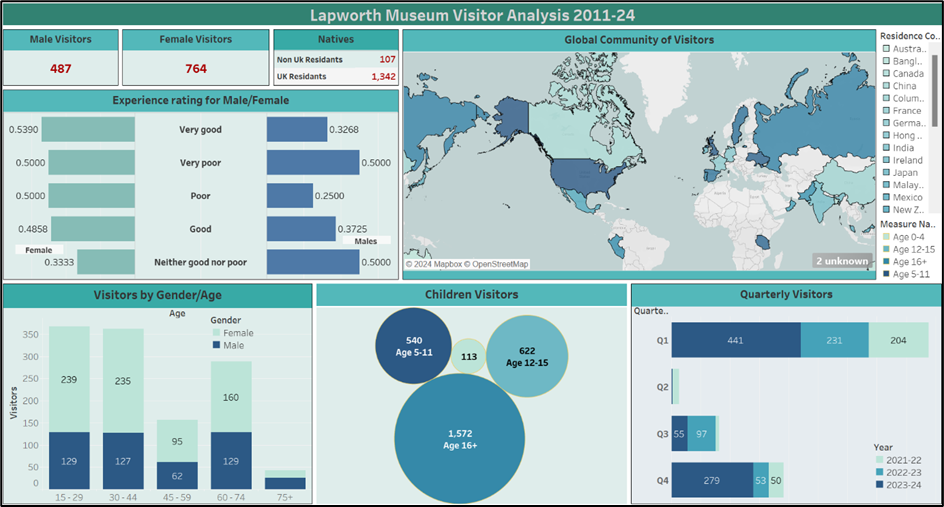

The dashboard page shown, as its layout file describes it:
{"tool":"tableau","page":{"name":"Dashboard 1","canvas":[1000,1000],"units":"permille","ordinal":0},"visuals":[{"type":"title","box":[5,9.1,990,59.2]},{"type":"worksheet","title":"Male Visitors","mark":"Automatic","box":[5,68.3,150.2,139]},{"type":"worksheet","title":"Female Visitors","mark":"Automatic","box":[155.2,68.3,106.6,139]},{"type":"worksheet","title":"Natives","mark":"Automatic","rows":["UKResidence"],"box":[261.8,68.3,162.7,139]},{"type":"worksheet","title":"Global Community of Visitors","mark":"Multipolygon","box":[424.5,68.3,487.6,490.1]},{"type":"legend","title":"Global Community of Visitors","param":"[federated.0q36t5l07i0mzx14kaglk1yqr4hp].[none:residenceCountry:nk]","box":[912.1,68.3,82.9,337.5]},{"type":"worksheet","title":"Experience rating for Male/Female","mark":"Automatic","rows":["experienceRating"],"cols":["Calculation_928304523125633030","Calculation_1700390384256401408","Calculation_928304523125530629"],"box":[5,207.3,419.6,351.2]},{"type":"legend","title":"Children Visitors","param":"[federated.0x6i5or1xelht01e3j2g41k0ohus].[:Measure Names]","box":[912.1,405.8,82.9,152.6]},{"type":"worksheet","title":"Visitors by Gender/Age","mark":"Automatic","rows":["Sheetn1_F56A92534EA4408CB83E73F90984C33C"],"cols":["Age"],"box":[5,558.5,329.3,432.4]},{"type":"worksheet","title":"Children Visitors","mark":"Circle","box":[334.3,558.5,330,432.4]},{"type":"worksheet","title":"Quarterly Visitors","mark":"Bar","rows":["VisitingDate"],"cols":["Sheetn1_D95E6FB01C424B3381954CE16F2413E4"],"box":[664.3,558.5,330.7,432.4]},{"type":"legend","title":"Visitors by Gender/Age","param":"[federated.1o2nny81i70ewv16ebwas1ls3brk].[none:Gender:nk]","box":[224.4,616.2,107.9,85.4]},{"type":"legend","title":"Quarterly Visitors","param":"[federated.0q36t5l07i0mzx14kaglk1yqr4hp].[none:Year:nk]","box":[922.1,864.5,69.2,117.3]}]}

Visuals, with their boxes on the dashboard's canvas, which has no fixed pixel size, in thousandths of its width and height (x1, y1, x2, y2). These are canvas units, not pixel positions in the 944x507 screenshot, which may show the page scaled, cropped or inside an application window:
title: <region>5, 9, 995, 68</region>
"Male Visitors" worksheet: <region>5, 68, 155, 207</region>
"Female Visitors" worksheet: <region>155, 68, 262, 207</region>
"Natives" worksheet: <region>262, 68, 424, 207</region>
"Global Community of Visitors" worksheet (Multipolygon marks): <region>424, 68, 912, 558</region>
"Global Community of Visitors" legend: <region>912, 68, 995, 406</region>
"Experience rating for Male/Female" worksheet: <region>5, 207, 425, 558</region>
"Children Visitors" legend: <region>912, 406, 995, 558</region>
"Visitors by Gender/Age" worksheet: <region>5, 558, 334, 991</region>
"Children Visitors" worksheet (Circle marks): <region>334, 558, 664, 991</region>
"Quarterly Visitors" worksheet (Bar marks): <region>664, 558, 995, 991</region>
"Visitors by Gender/Age" legend: <region>224, 616, 332, 702</region>
"Quarterly Visitors" legend: <region>922, 864, 991, 982</region>
